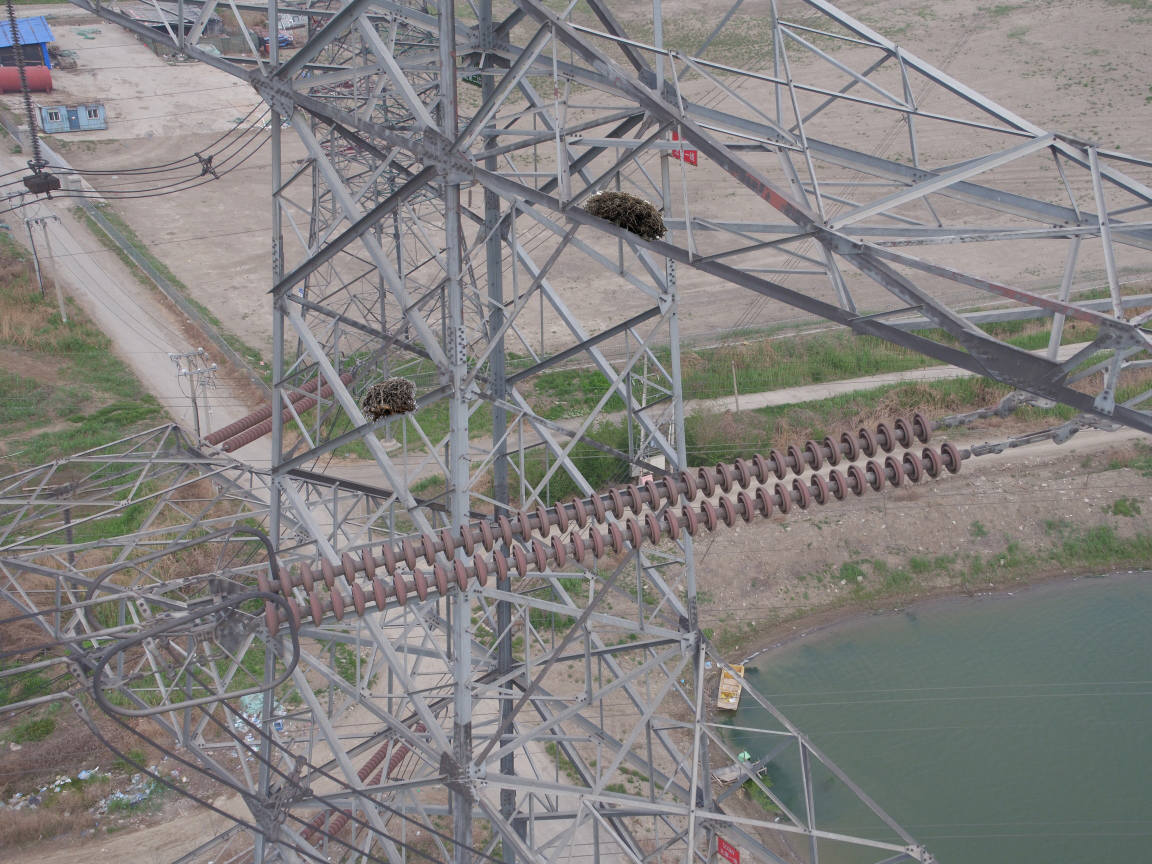nest: (580, 184, 670, 246), (357, 375, 420, 418)
